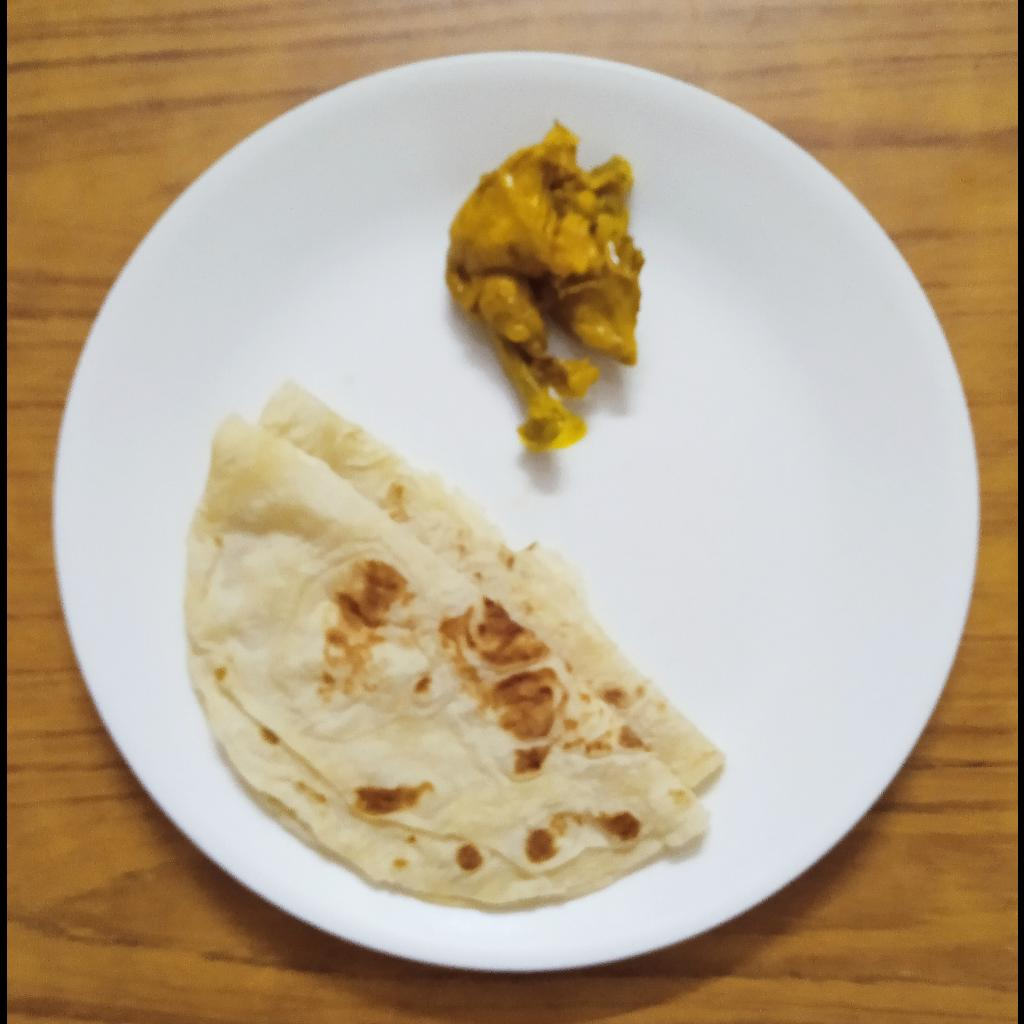chicken: (439, 125, 641, 458)
ruti: (183, 377, 732, 909)
